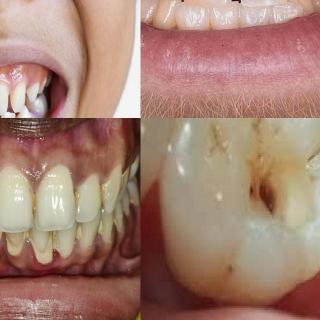Gum Swelling: (0, 149, 124, 193), (0, 231, 103, 271)
calculus: (28, 226, 54, 268), (4, 228, 27, 260), (95, 175, 112, 211), (49, 227, 68, 256), (94, 218, 108, 245), (72, 223, 86, 250), (112, 214, 124, 238), (126, 191, 138, 211), (118, 167, 130, 187), (0, 221, 7, 247)
cavities: (224, 118, 320, 256)
maligned: (170, 0, 210, 34), (269, 1, 305, 26)
stains: (27, 182, 45, 225), (68, 185, 85, 212)
